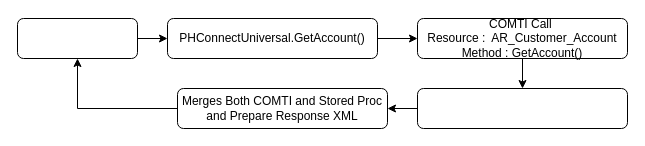
This 645x146 diagram has some shape labels left out. The shapes that lost their labels are listed below. From the top down, each one's centre as x and y in pixels, then its label:
At point (77, 38): "AccountList.asp Builds Request XML".
At point (522, 108): "StoredProc Call P03203SP".
